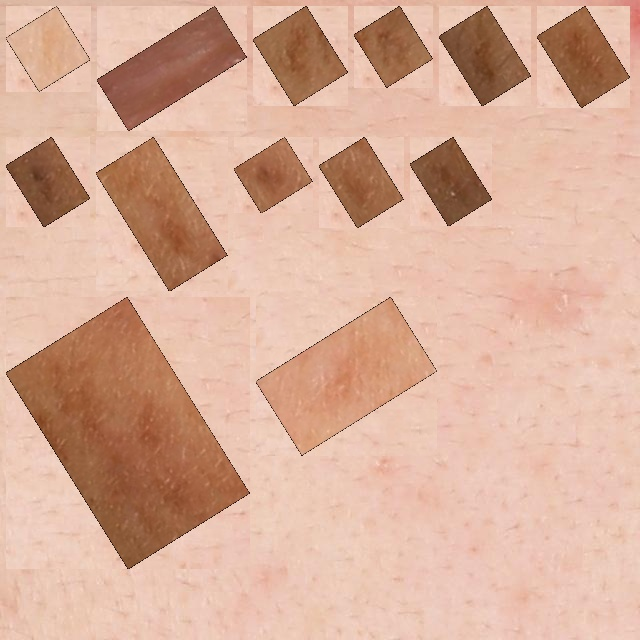hypertrophic_scar: (108, 17, 236, 120)
melasma: (17, 308, 239, 558), (267, 308, 426, 444), (107, 148, 216, 280), (264, 17, 337, 95), (548, 17, 619, 96), (450, 17, 520, 95), (17, 148, 79, 216), (330, 148, 392, 216), (421, 148, 481, 215), (17, 17, 79, 80), (365, 17, 422, 76), (245, 148, 301, 202)
